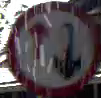Two way: (6, 0, 100, 97)
